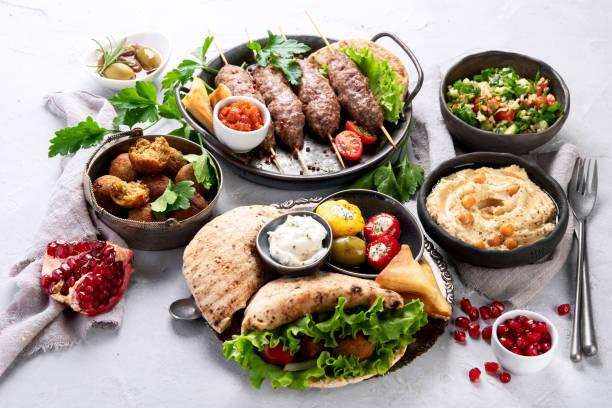Braised Crucian Carp: (186, 188, 454, 381), (177, 30, 417, 184), (419, 151, 568, 268), (82, 132, 226, 242), (439, 50, 570, 156)
